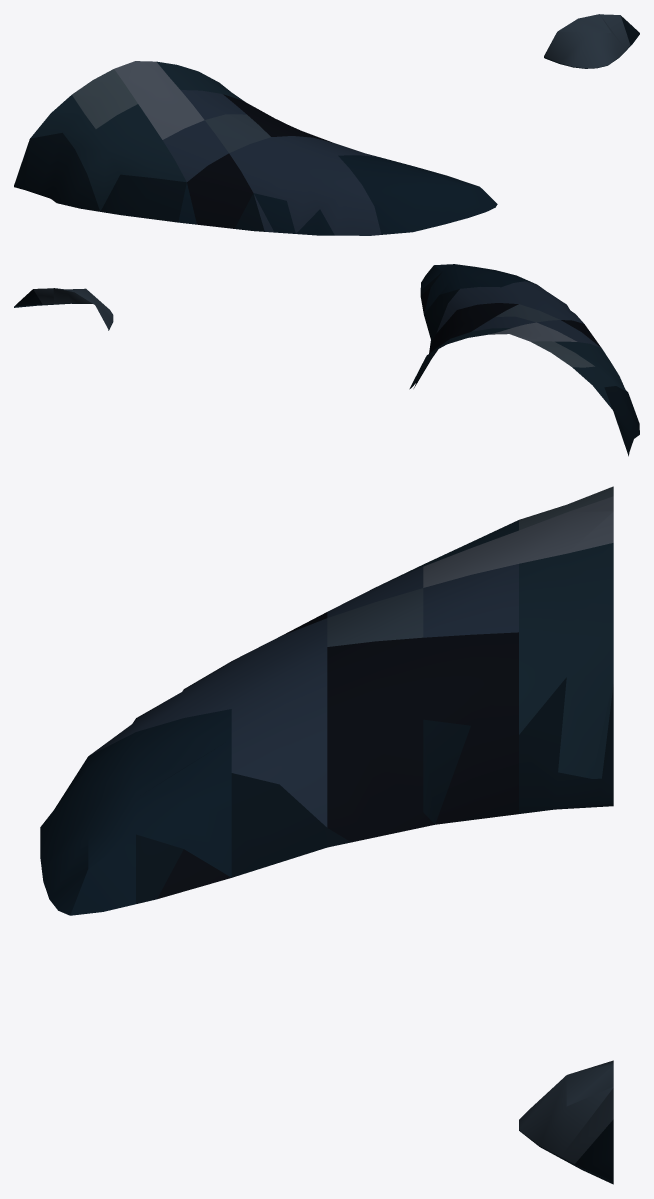
File: gyges_pincer_205.glb
The picture shows the model from 3 angles, top to bottom: view 1: azimuth 30°, elevation 25°; view 2: azimuth 150°, elevation 25°; view 3: azimuth 270°, elevation 25°; orthographic projection. The views are drawn at different scales.
Parts seen in each view (by area): view 1: gyges_pincer_205_pincer; view 2: gyges_pincer_205_pincer; view 3: gyges_pincer_205_pincer.
Part boxes in pixels (left/top/right/bottom): gyges_pincer_205_pincer: left=14, top=14, right=639, bottom=235; gyges_pincer_205_pincer: left=14, top=264, right=639, bottom=456; gyges_pincer_205_pincer: left=40, top=486, right=613, bottom=1184.
Size of the model in its own units: 14.83 by 2.18 by 5.99.
